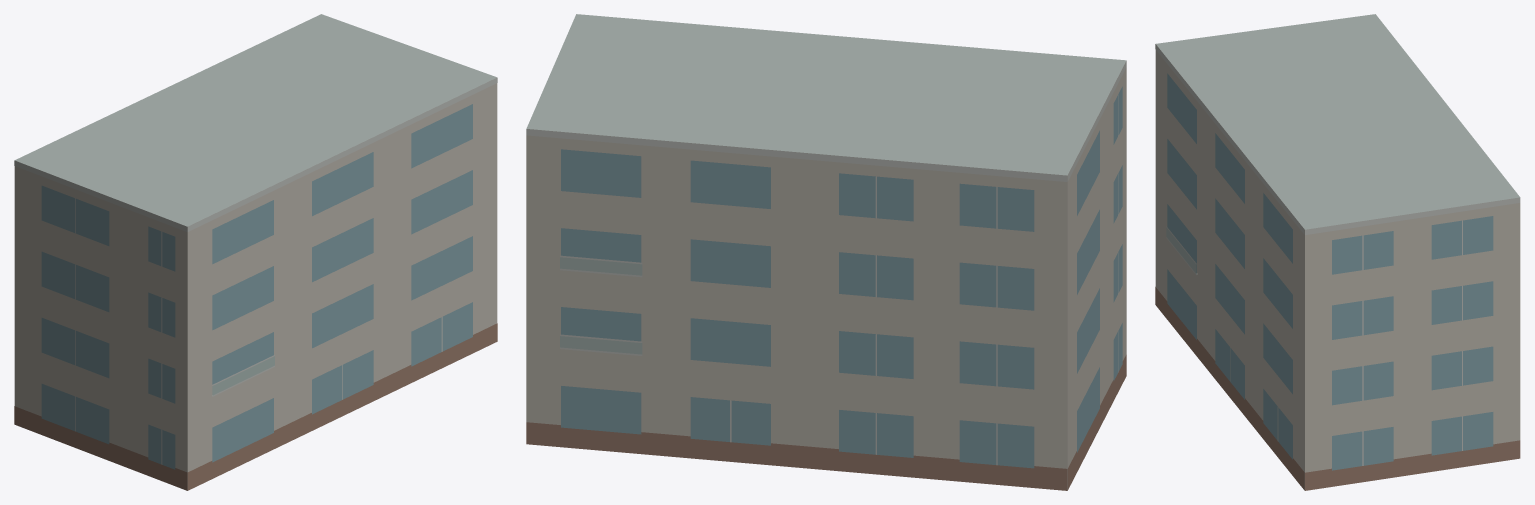
Rendered from survey-upis-32786067.glb.
3 views of the same model, side by side, from view 1: azimuth 30°, elevation 25°; view 2: azimuth 150°, elevation 25°; view 3: azimuth 270°, elevation 25° (orthographic). The views are drawn at different scales.
Visible parts, largest first — view 1: survey-upis-32786067.tmp; view 2: survey-upis-32786067.tmp; view 3: survey-upis-32786067.tmp.
Part boxes in pixels (x1,y1,x2,y2): survey-upis-32786067.tmp: (14,14,497,490); survey-upis-32786067.tmp: (526,14,1126,490); survey-upis-32786067.tmp: (1155,14,1520,490).
Bounding box in the file's own units: 20.74 × 11.7 × 14.82.
